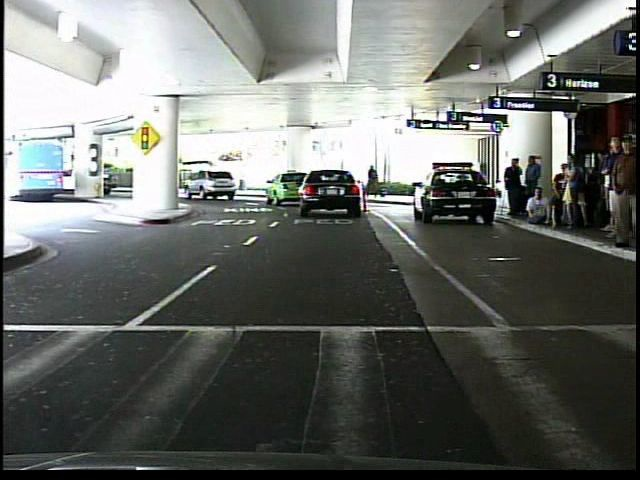person: (521, 153, 544, 218), (503, 155, 525, 219), (367, 163, 382, 202)
